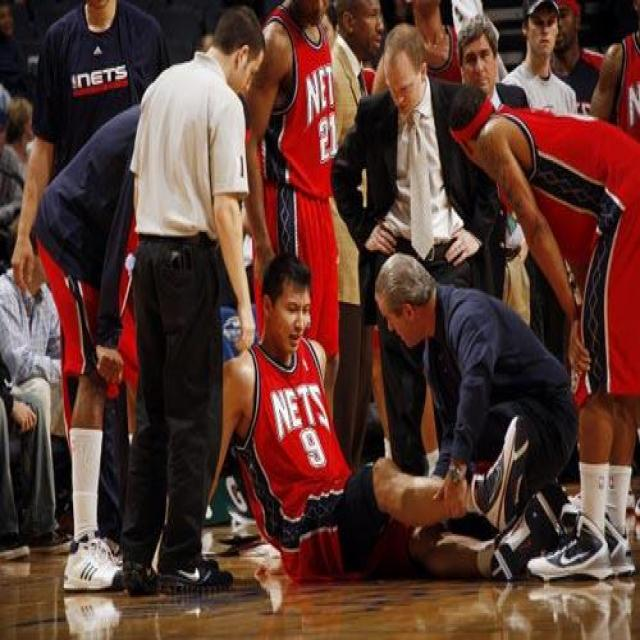10-: (1, 0, 632, 599)
down: (210, 252, 532, 588)
